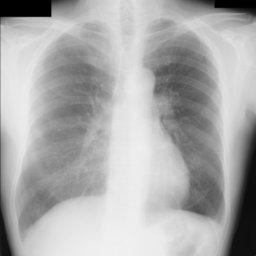leftlobe: (144, 19, 224, 220)
right lobe: (18, 23, 114, 230)
